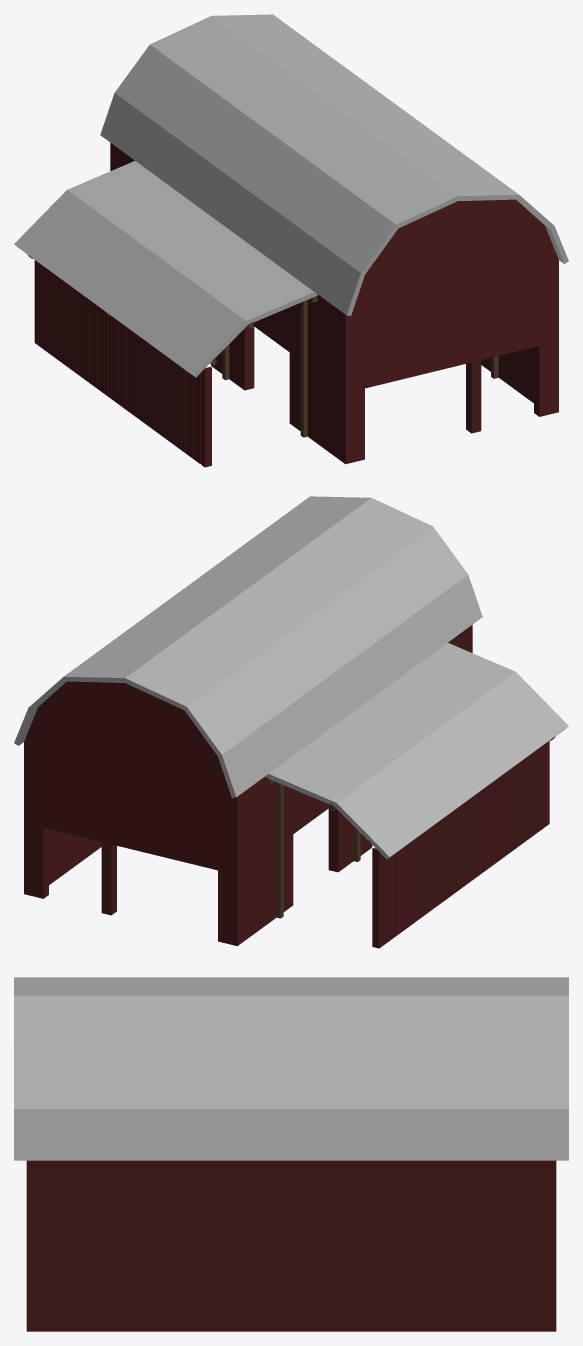
The model's file is MOD_BarnNEW.fbx.
3 renders of one model, top to bottom at view 1: azimuth 30°, elevation 25°; view 2: azimuth 150°, elevation 25°; view 3: azimuth 270°, elevation 25°, orthographic. The views are drawn at different scales.
Visible parts, largest first — view 1: Barn_Combined_NewWall; view 2: Barn_Combined_NewWall; view 3: Barn_Combined_NewWall.
Part boxes in pixels (x1,y1,x2,y2): Barn_Combined_NewWall: (14, 14, 568, 467); Barn_Combined_NewWall: (14, 496, 568, 948); Barn_Combined_NewWall: (14, 977, 568, 1331).
Size of the model in its own units: 2823 by 1940 by 3520.
